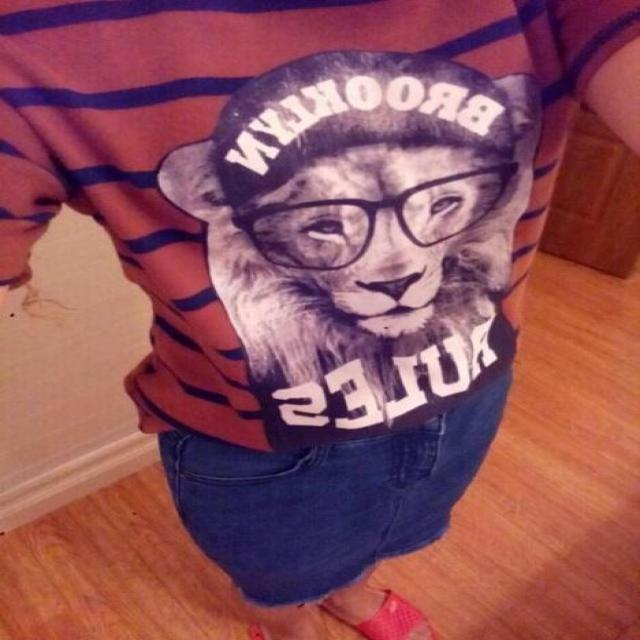short sleeve top: (1, 2, 637, 430)
skirt: (157, 302, 503, 584)
